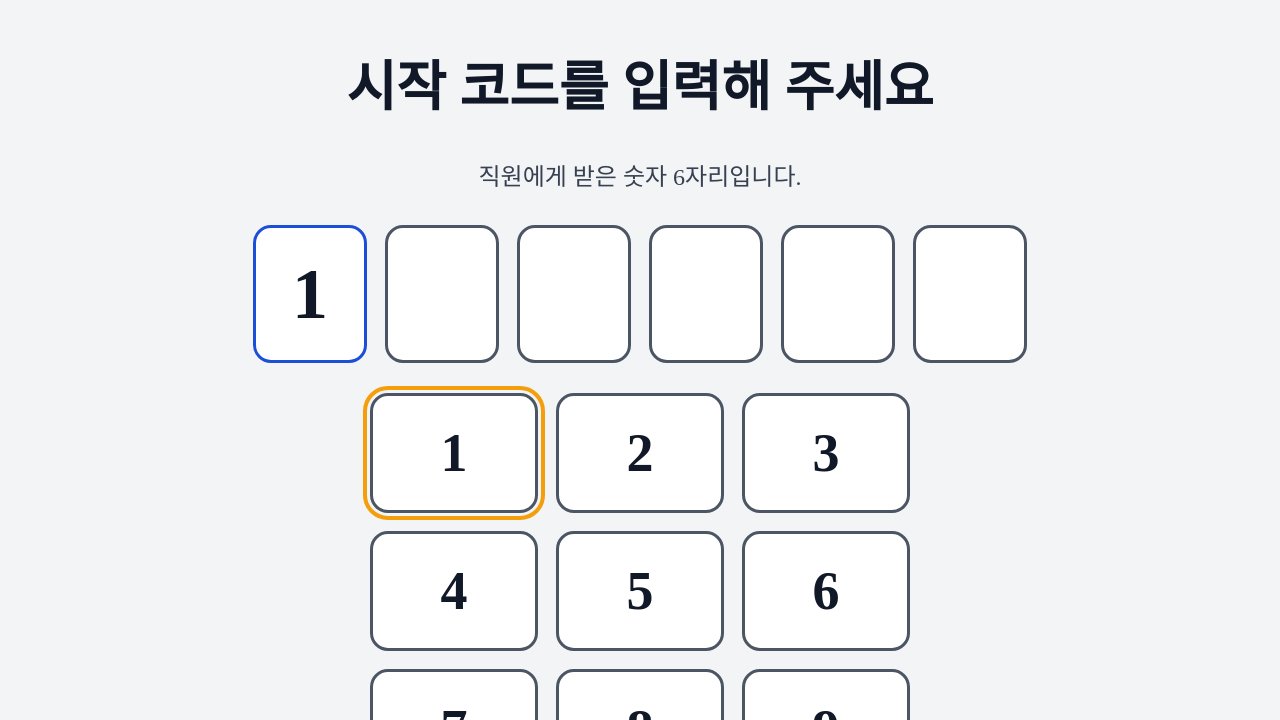
Test: 시작 › 올바른 코드로 시작하면 첫 문장이 보인다
Earlier steps of the test are not shown.
Click the button "2". click: point(640, 453)
box: left=556, top=393, right=724, bottom=513
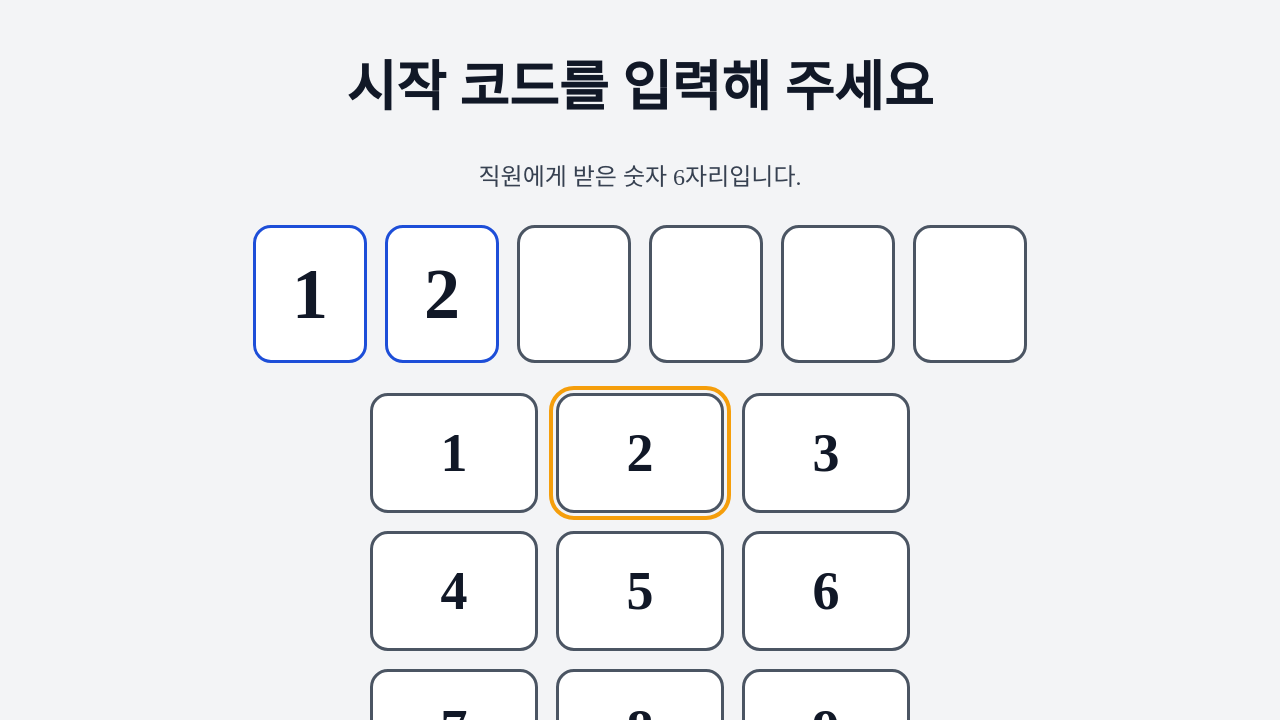
Click the button "3". click: point(826, 453)
box: left=742, top=393, right=910, bottom=513
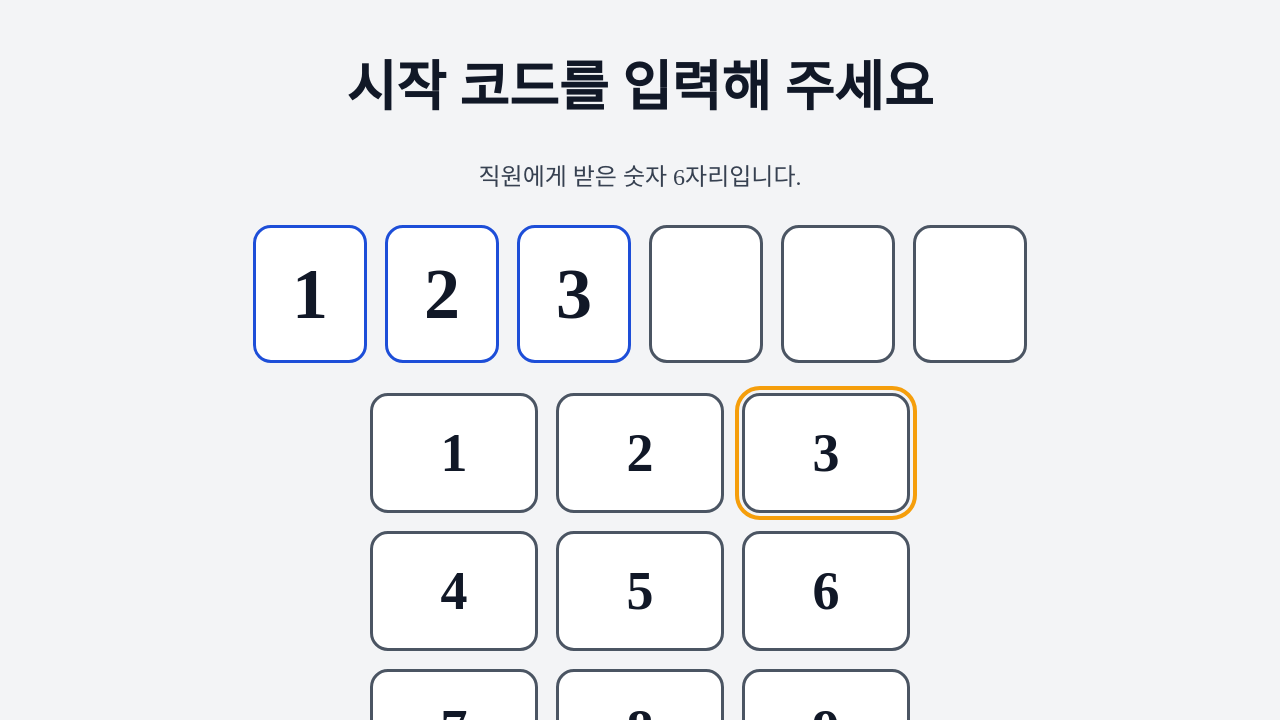
Click the button "4". click: point(454, 591)
box: left=370, top=531, right=538, bottom=651
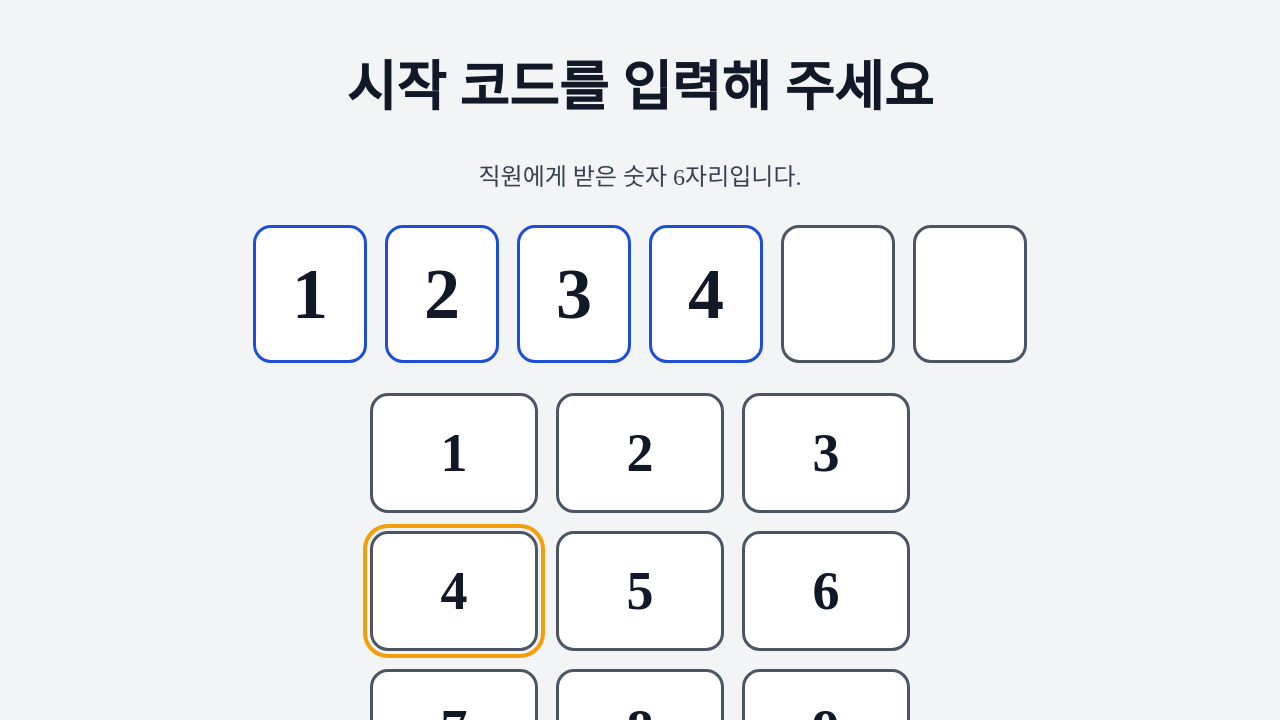
Click the button "5". click: point(640, 591)
box: left=556, top=531, right=724, bottom=651
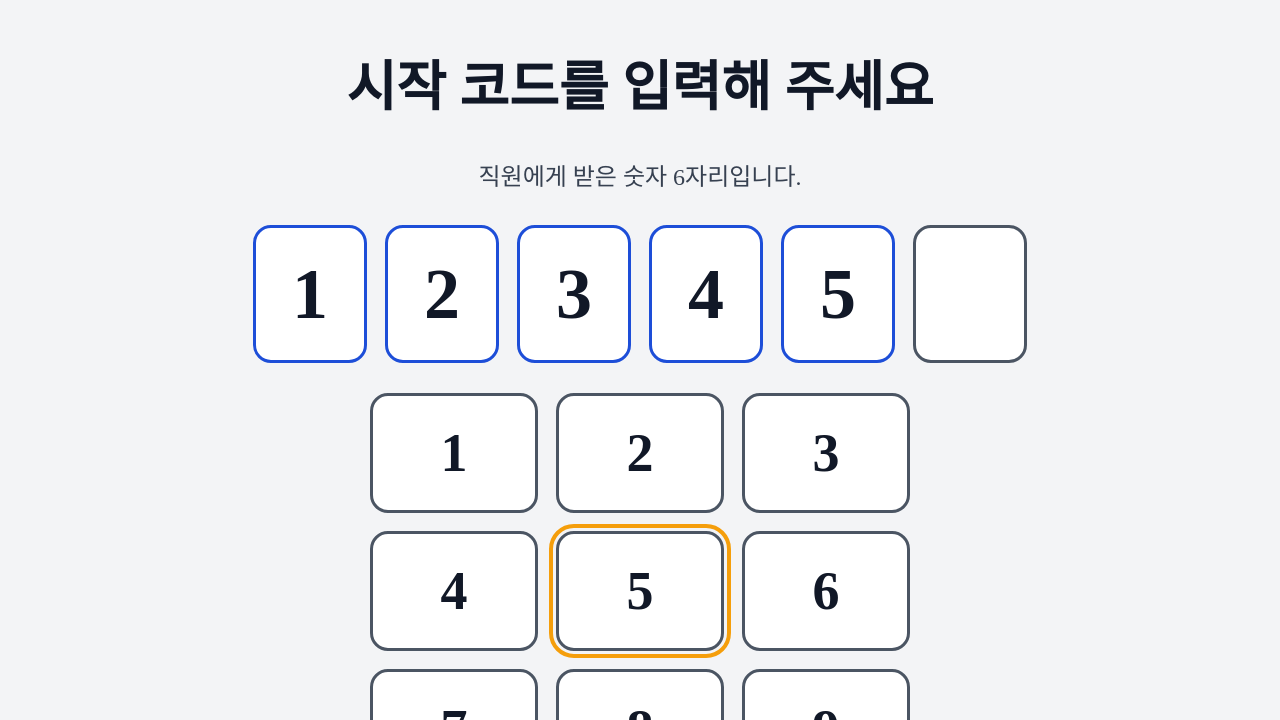
Click the button "6". click: point(826, 591)
box: left=742, top=531, right=910, bottom=651
(page scrolled)
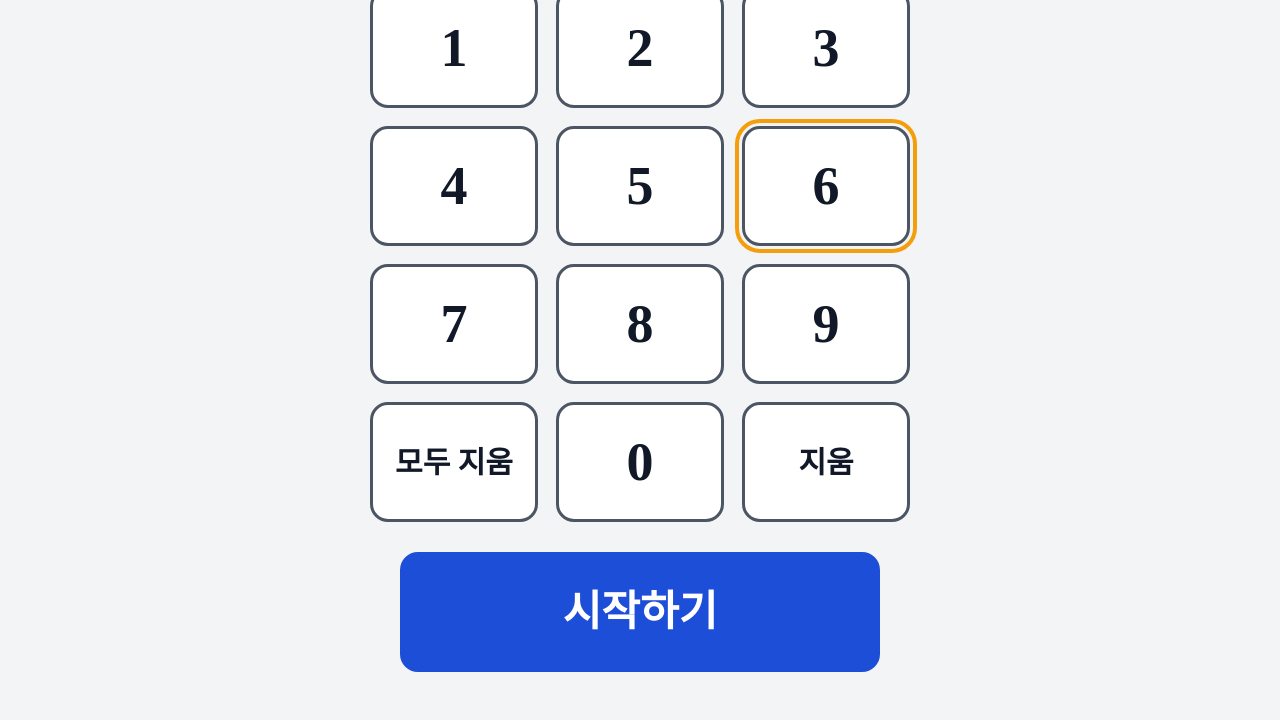
Click the button "시작하기". click: point(640, 612)
box: left=400, top=552, right=880, bottom=672
(page scrolled)
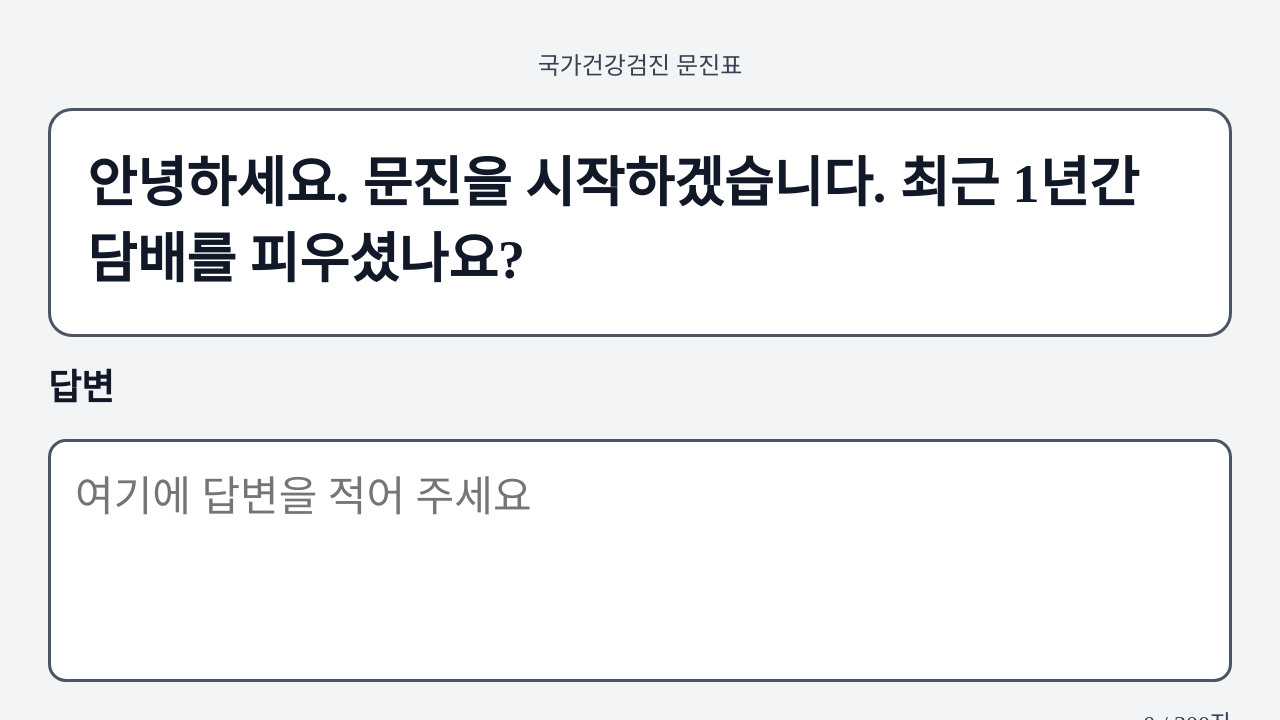
Now the text box labelled "답변" is shown, box left=48, top=439, right=1232, bottom=682
Now the text "안녕하세요. 문진을 시작하겠습니다. 최근 1년간 담배를 피우셨나요?" is shown, box left=48, top=108, right=1232, bottom=337
Now the text "국가건강검진 문진표" is shown, box left=538, top=53, right=742, bottom=79
